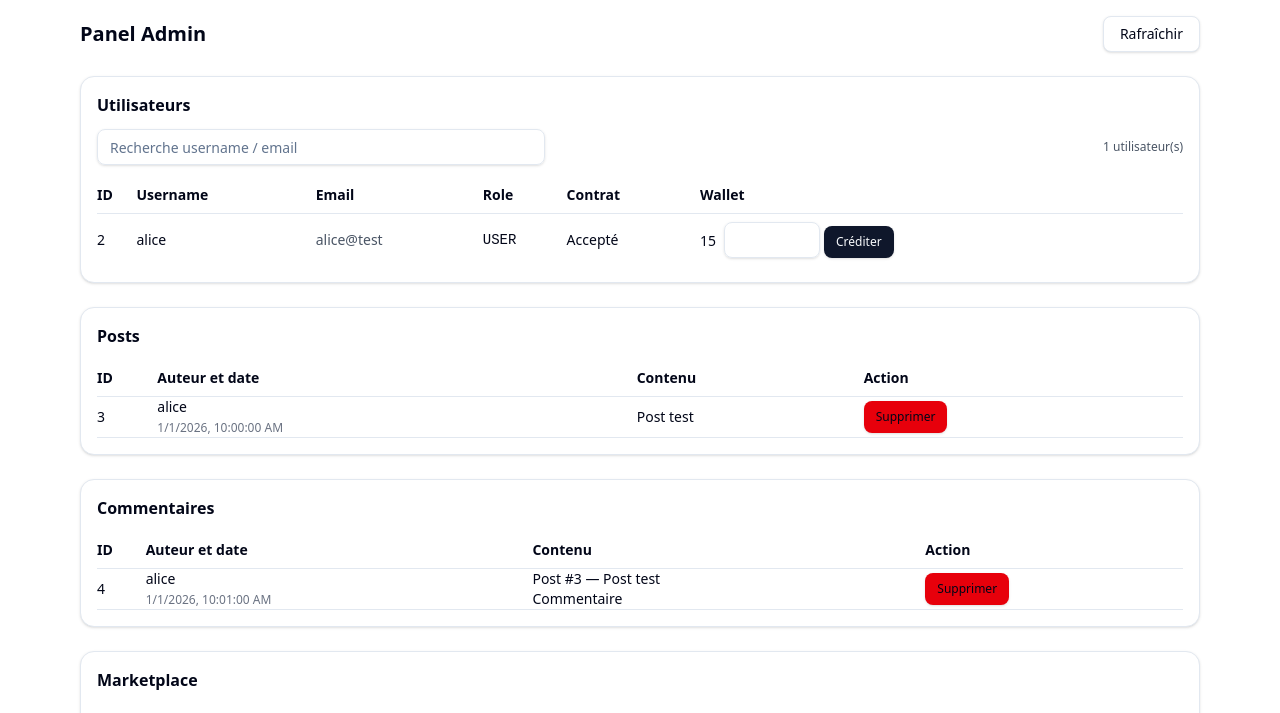
Test: Admin › validates then credits a wallet through the dedicated admin API
Type "10" into the number field named "Montant wallet alice" at [772, 240], box top-left (724, 222), bottom-right (820, 258)
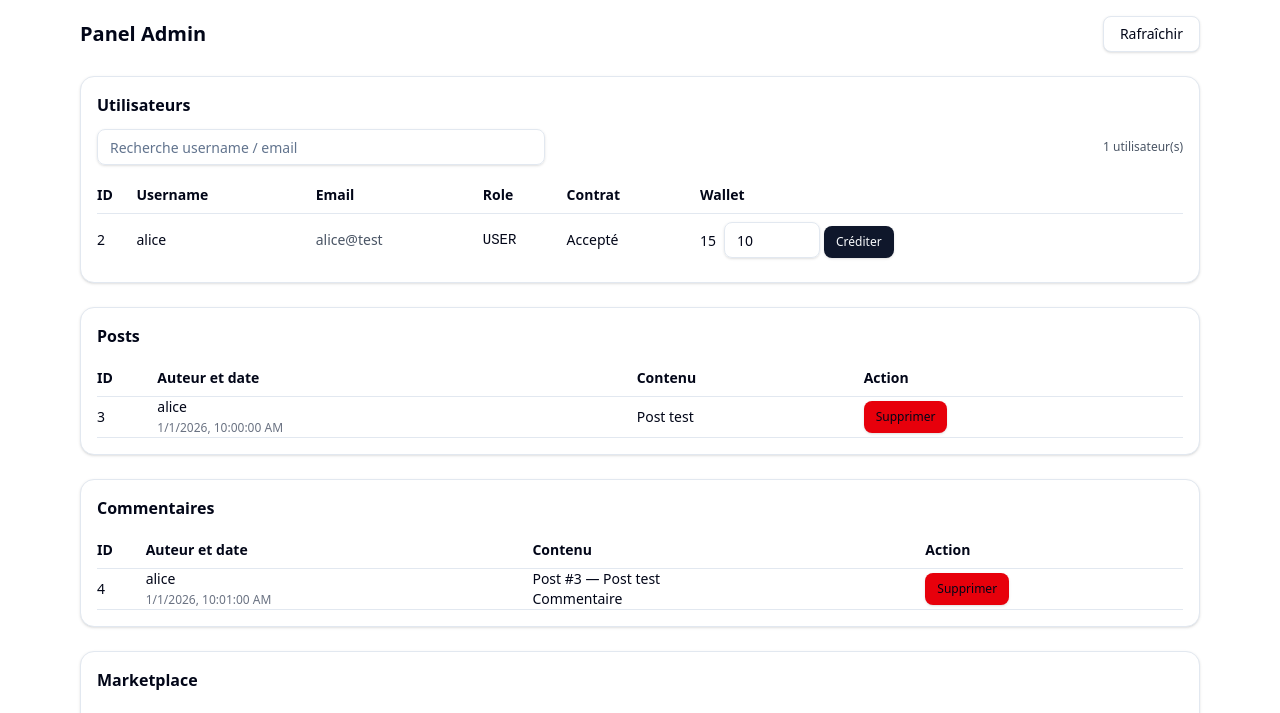
Click the button "Créditer" at [859, 242], box top-left (824, 226), bottom-right (894, 258)
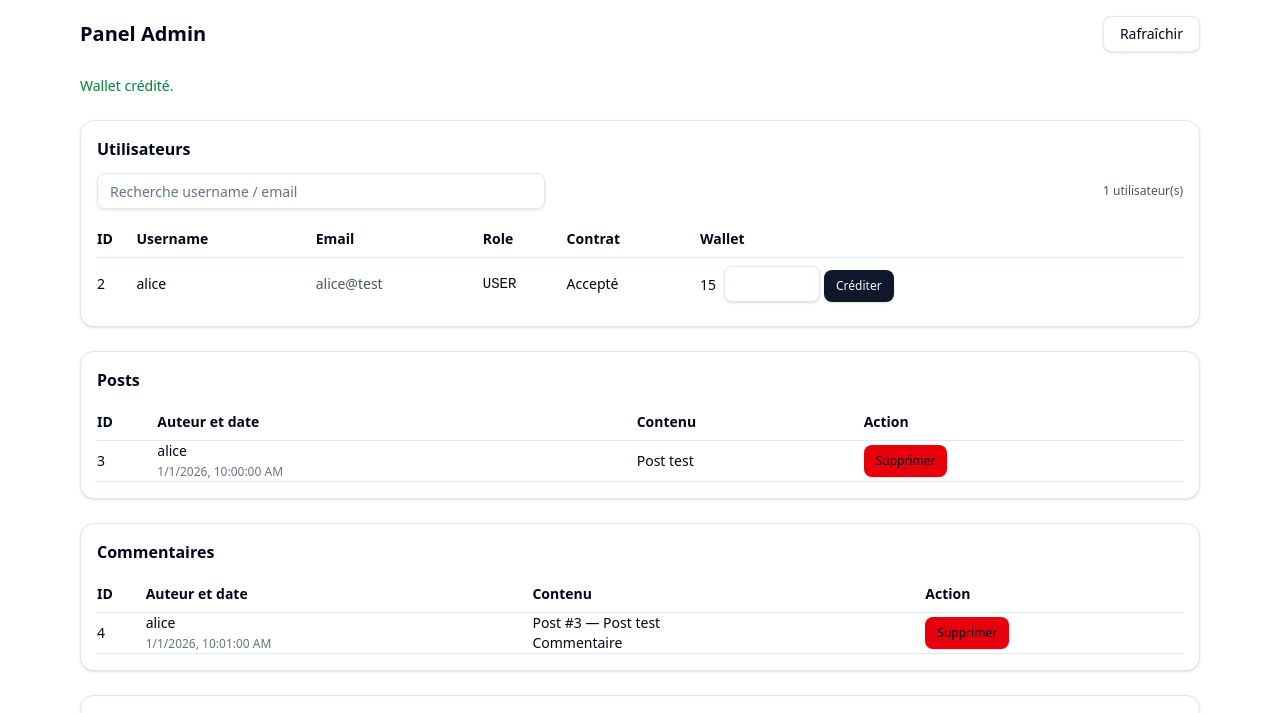
Result: the text "Wallet crédité." is shown at top-left (80, 76), bottom-right (174, 95)
